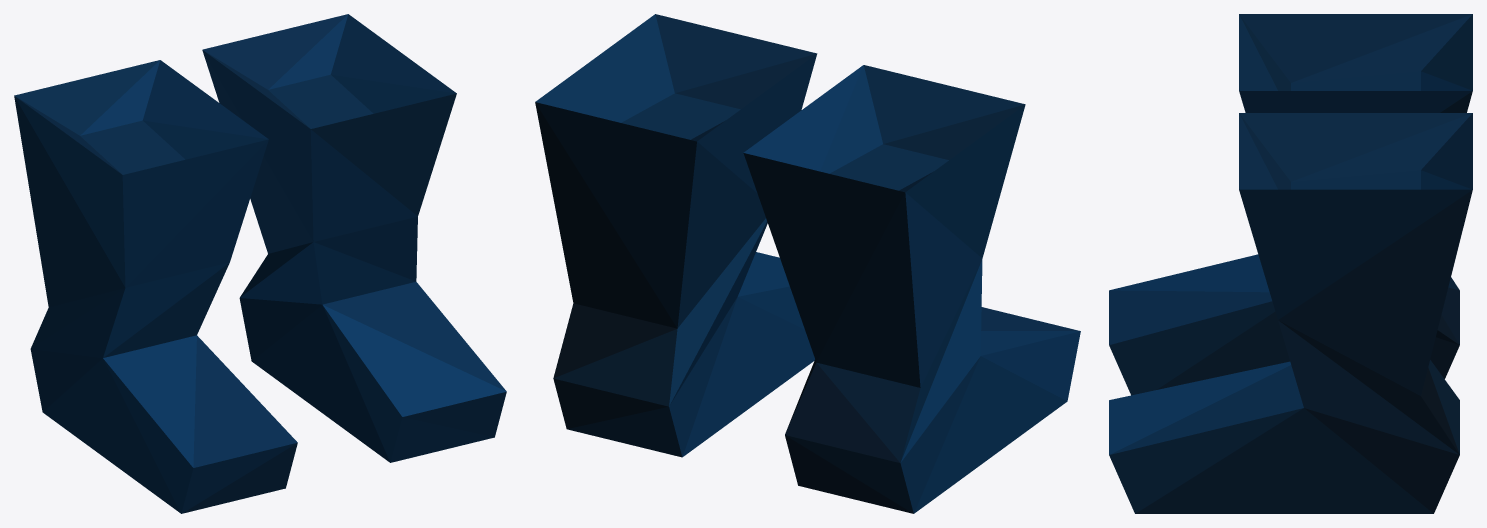
File: wizard-boots.obj
The picture shows the model from 3 angles, left to right: view 1: azimuth 30°, elevation 25°; view 2: azimuth 150°, elevation 25°; view 3: azimuth 270°, elevation 25°; orthographic projection. The views are drawn at different scales.
Visible parts, largest first — view 1: Item Wizard boots 2026-09-24_18-00-05; view 2: Item Wizard boots 2026-09-24_18-00-05; view 3: Item Wizard boots 2026-09-24_18-00-05.
Boxes of the visible parts, x1,y1,x2,y2 form: Item Wizard boots 2026-09-24_18-00-05: (14, 14, 506, 513); Item Wizard boots 2026-09-24_18-00-05: (535, 14, 1080, 513); Item Wizard boots 2026-09-24_18-00-05: (1109, 14, 1472, 513).
Bounding box in the file's own units: 32 × 28 × 28.
